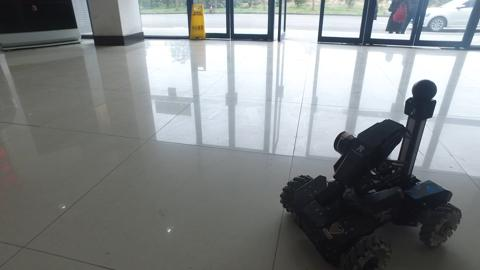car: (402, 1, 480, 32)
chariot: (277, 78, 461, 270)
